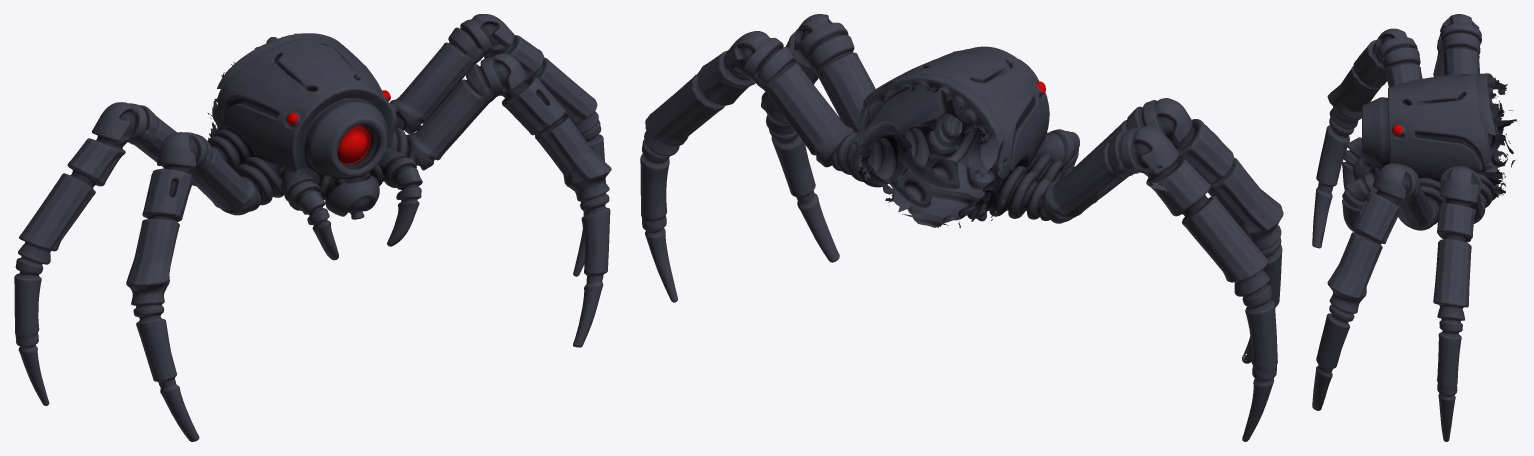
The model's file is spider1forward-compressed.glb.
3 renders of one model, left to right at view 1: azimuth 30°, elevation 25°; view 2: azimuth 150°, elevation 25°; view 3: azimuth 270°, elevation 25°, orthographic. The views are drawn at different scales.
Visible parts, largest first — view 1: Object_2; view 2: Object_2; view 3: Object_2.
Boxes of the visible parts, x1,y1,x2,y2 form: Object_2: [14, 14, 611, 441]; Object_2: [640, 14, 1283, 441]; Object_2: [1312, 14, 1517, 441].
Size of the model in its own units: 1.45 by 0.6813 by 0.5139.
